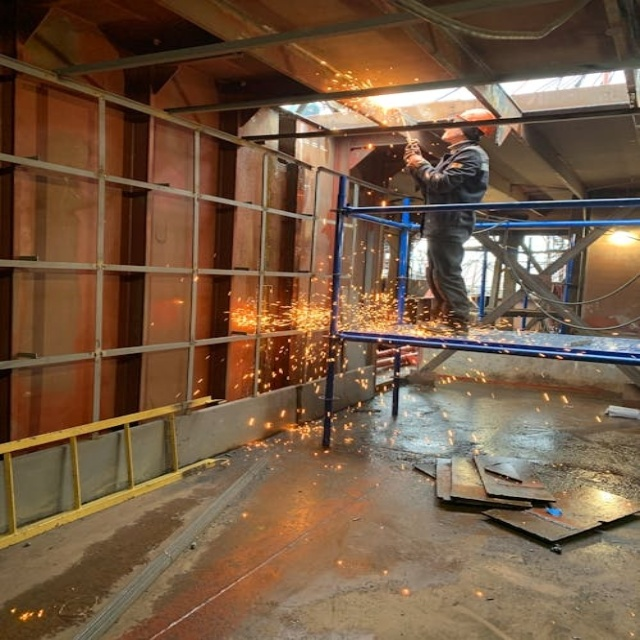Sin_guantes: (403, 142, 424, 166)
Sin_mascara: (435, 128, 454, 141)
